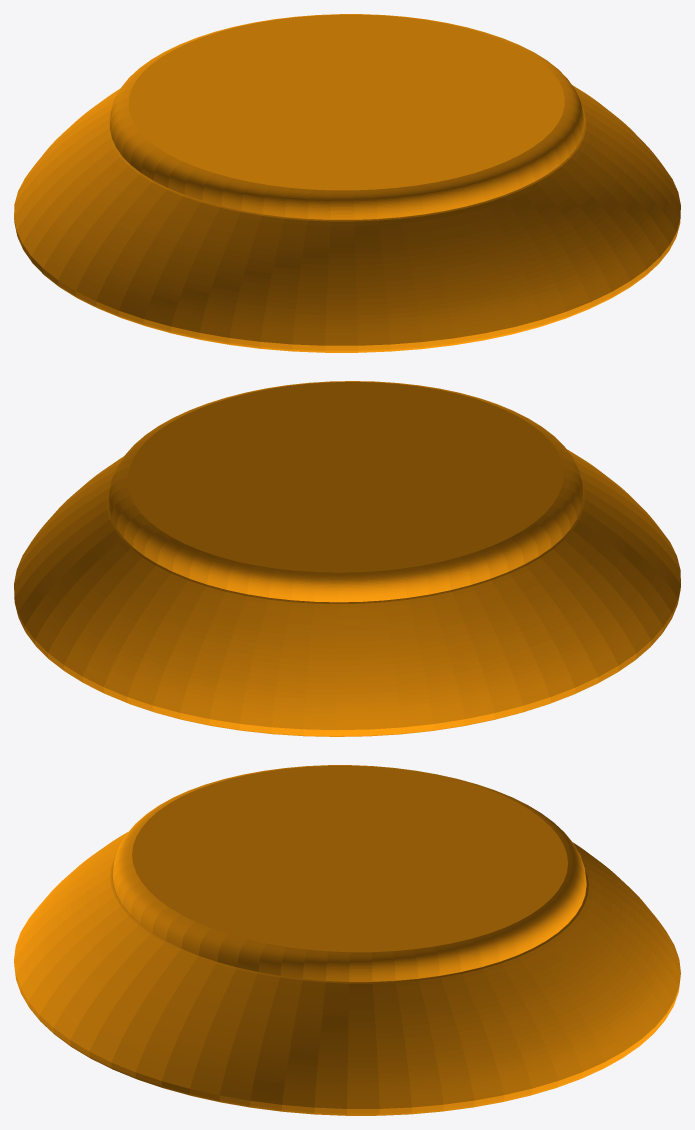
File: Kirby_C.obj
The picture shows the model from 3 angles, top to bottom: view 1: azimuth 30°, elevation 25°; view 2: azimuth 150°, elevation 25°; view 3: azimuth 270°, elevation 25°; orthographic projection.
Parts seen in each view (by area): view 1: Object010; view 2: Object010; view 3: Object010.
Part boxes in pixels (x1,y1,x2,y2): Object010: (14,14,680,352); Object010: (14,381,680,736); Object010: (14,765,680,1115).
Size of the model in its own units: 75.2 by 17.74 by 75.19.
